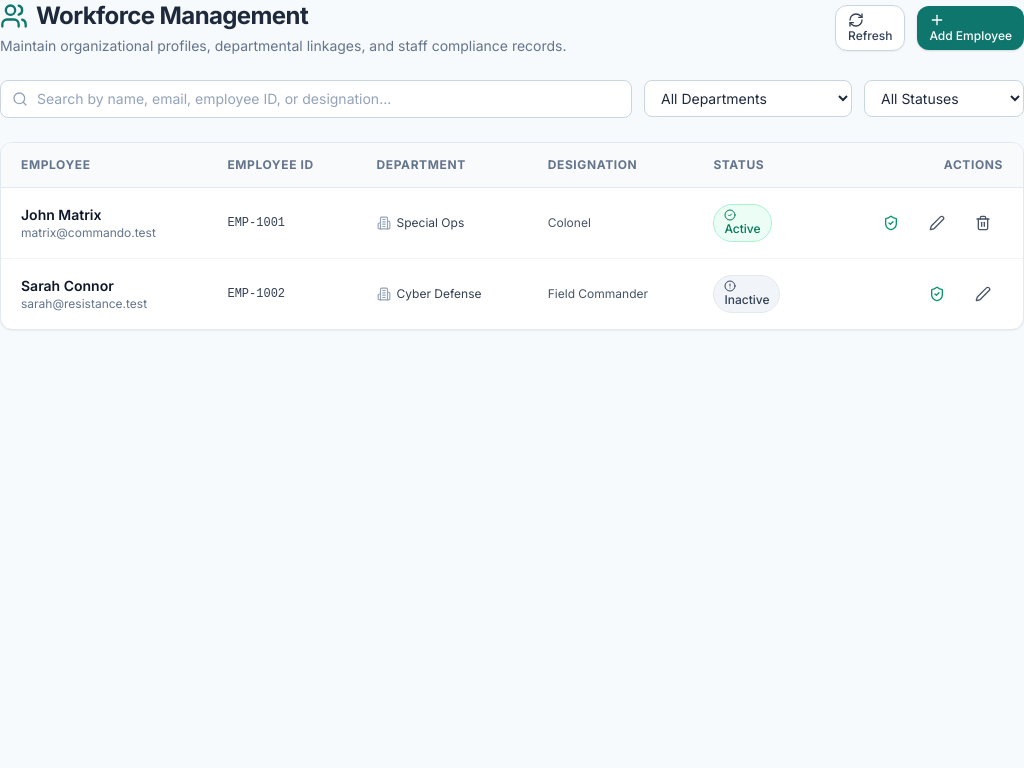
Test case: AdminEmployeesPage › inspects employee compliance assignments in a modal
The image size is (1024, 768).
Expected: the text "John Matrix" is shown, [21, 206, 102, 223]
Step 1. Click the button titled "View Compliance Status" → (891,223), box [871, 209, 911, 237]
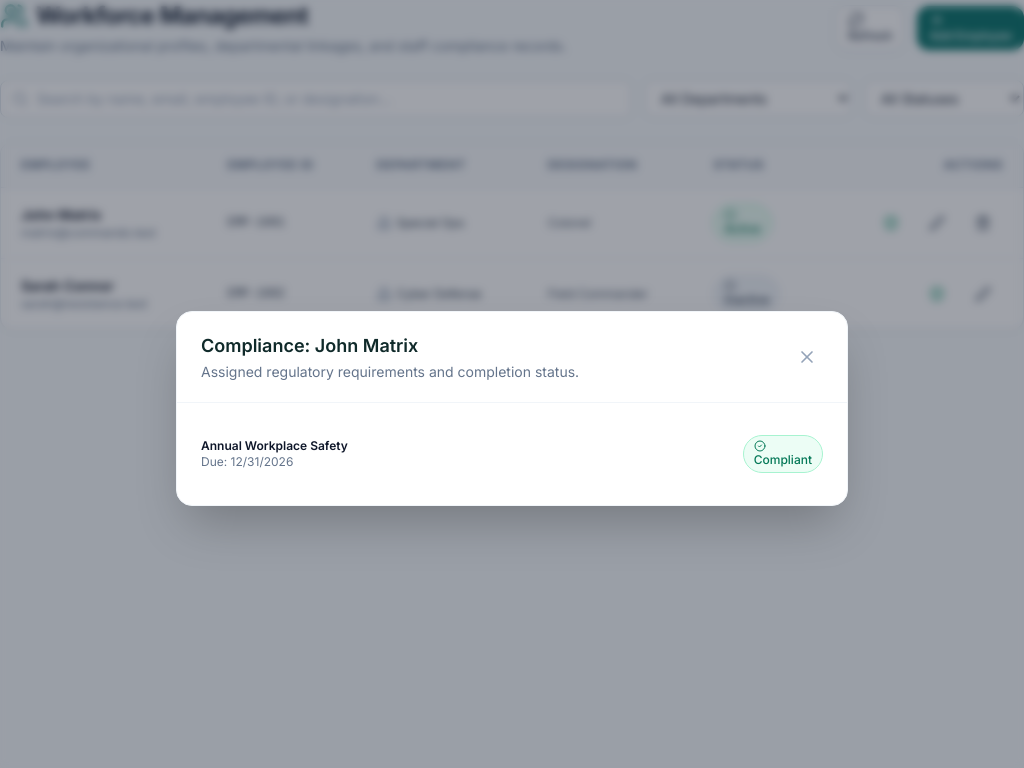
Result: the heading "Compliance: John Matrix" is shown at [201, 334, 418, 356]
Result: the heading "Annual Workplace Safety" is shown at [201, 438, 348, 454]
